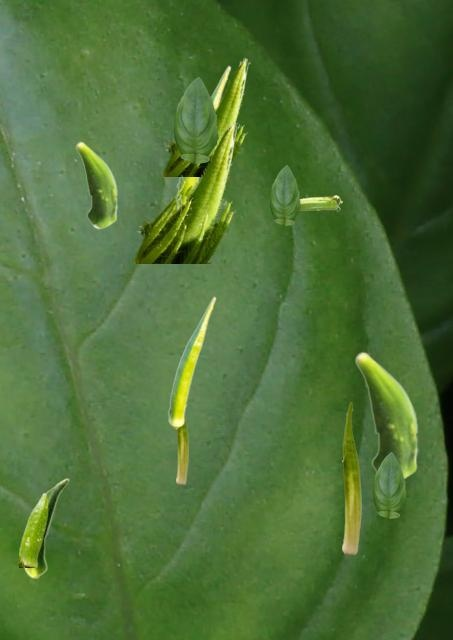okra: (133, 120, 238, 262), (162, 57, 249, 175), (354, 351, 418, 479), (177, 65, 230, 207), (168, 296, 215, 428), (23, 478, 68, 578), (75, 141, 117, 228), (342, 402, 360, 553), (19, 492, 47, 566), (176, 417, 187, 483), (300, 195, 341, 209)
